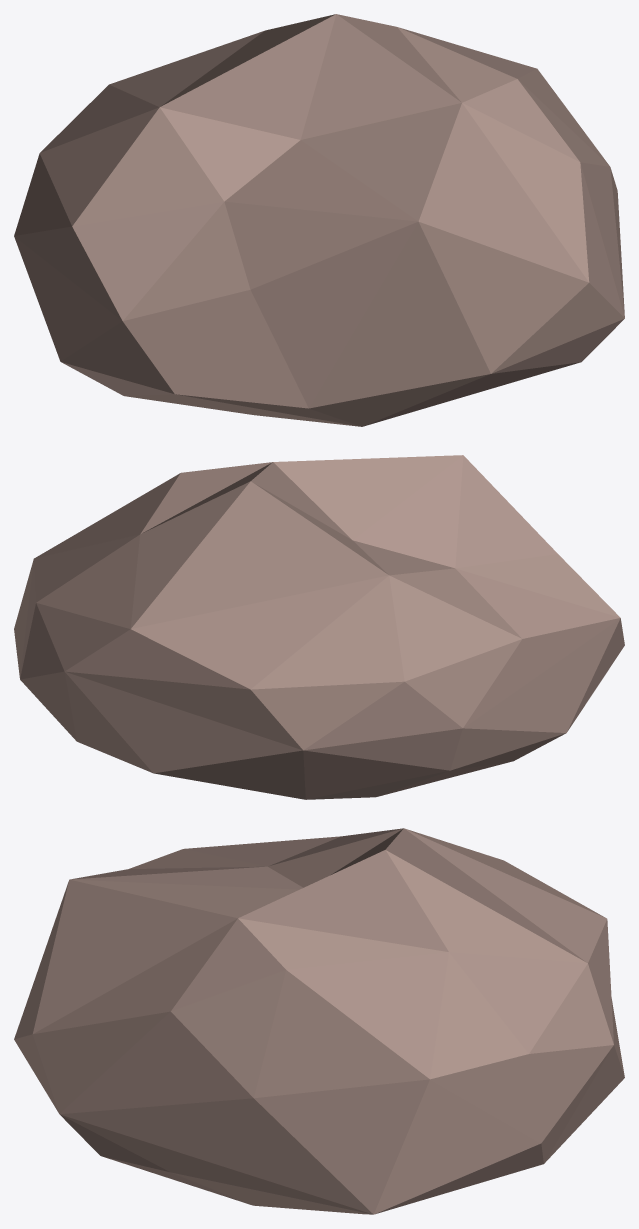
Rendered from Stone.glb.
3 renders of one model, top to bottom at view 1: azimuth 30°, elevation 25°; view 2: azimuth 150°, elevation 25°; view 3: azimuth 270°, elevation 25°, orthographic. The views are drawn at different scales.
Visible parts, largest first — view 1: Sphere001; view 2: Sphere001; view 3: Sphere001.
Part boxes in pixels (box(x1,y1,x2,y2)): Sphere001: box(14, 14, 624, 426); Sphere001: box(14, 455, 624, 799); Sphere001: box(14, 828, 624, 1214).
Size of the model in its own units: 2590550 by 1371006 by 2369436.
